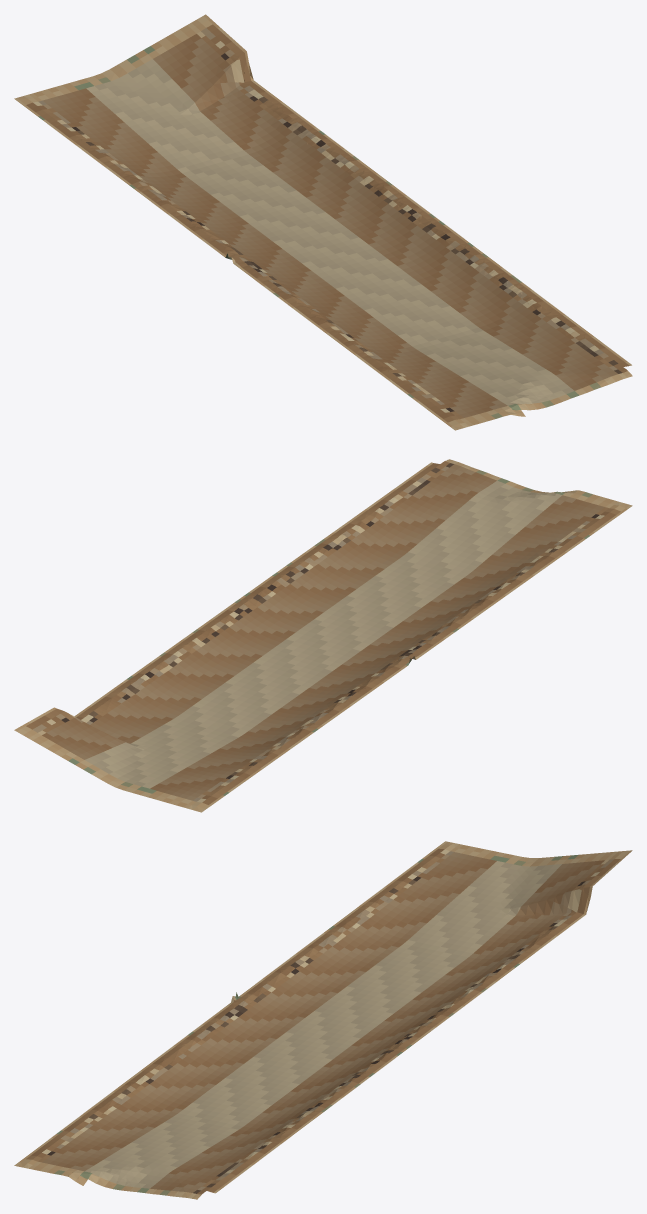
Rendered from liner_main_canal.glb.
The picture shows the model from 3 angles, top to bottom: view 1: azimuth 30°, elevation 25°; view 2: azimuth 150°, elevation 25°; view 3: azimuth 330°, elevation 25°; orthographic projection. The views are drawn at different scales.
Visible parts, largest first — view 1: liner_main_canal_body; view 2: liner_main_canal_body; view 3: liner_main_canal_body.
Part boxes in pixels (x1,y1,x2,y2): liner_main_canal_body: (14, 14, 632, 430); liner_main_canal_body: (14, 459, 632, 812); liner_main_canal_body: (14, 841, 632, 1199).
Bounding box in the file's own units: 46 × 12.57 × 183.
